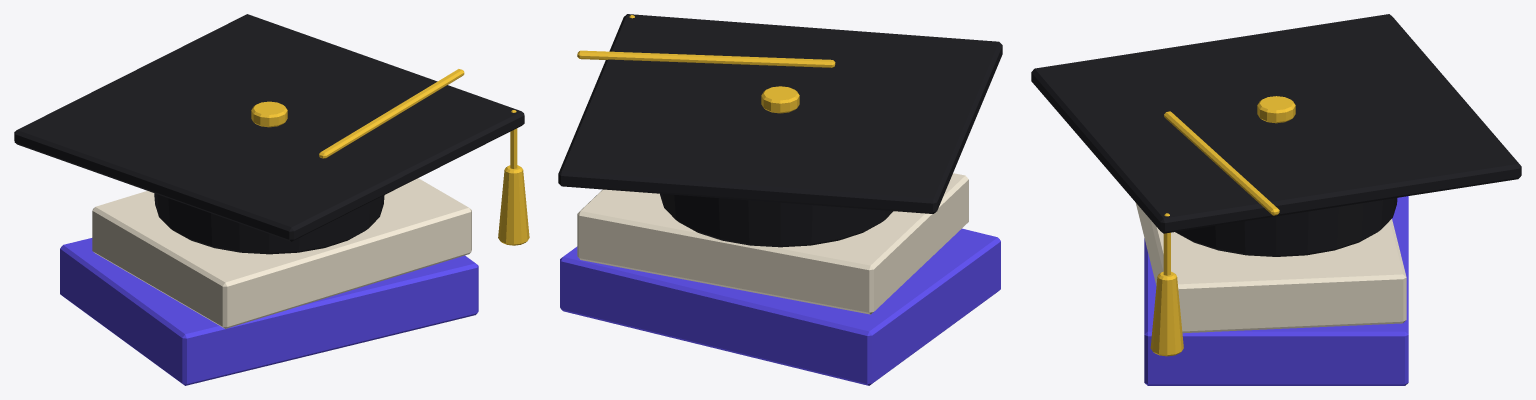
The model's file is lesson-folk.glb.
The picture shows the model from 3 angles, left to right: view 1: azimuth 30°, elevation 25°; view 2: azimuth 150°, elevation 25°; view 3: azimuth 270°, elevation 25°; orthographic projection. The views are drawn at different scales.
Visible parts, largest first — view 1: lesson-folk.cap, lesson-folk.book-cream, lesson-folk.book-purple, lesson-folk.tassel; view 2: lesson-folk.cap, lesson-folk.book-purple, lesson-folk.book-cream, lesson-folk.tassel; view 3: lesson-folk.cap, lesson-folk.book-cream, lesson-folk.book-purple, lesson-folk.tassel.
Part boxes in pixels (left/top/right/bottom): lesson-folk.cap: left=14, top=14, right=524, bottom=254; lesson-folk.book-cream: left=92, top=178, right=471, bottom=328; lesson-folk.book-purple: left=60, top=238, right=478, bottom=385; lesson-folk.tassel: left=251, top=69, right=529, bottom=245; lesson-folk.cap: left=558, top=14, right=1002, bottom=247; lesson-folk.book-purple: left=560, top=228, right=1000, bottom=385; lesson-folk.book-cream: left=577, top=173, right=968, bottom=314; lesson-folk.tassel: left=577, top=15, right=835, bottom=113; lesson-folk.cap: left=1031, top=14, right=1521, bottom=256; lesson-folk.book-cream: left=1136, top=203, right=1406, bottom=333; lesson-folk.book-purple: left=1144, top=196, right=1408, bottom=385; lesson-folk.tassel: left=1150, top=96, right=1295, bottom=356.
Bounding box in the file's own units: 0.619 × 0.2865 × 0.6121.
